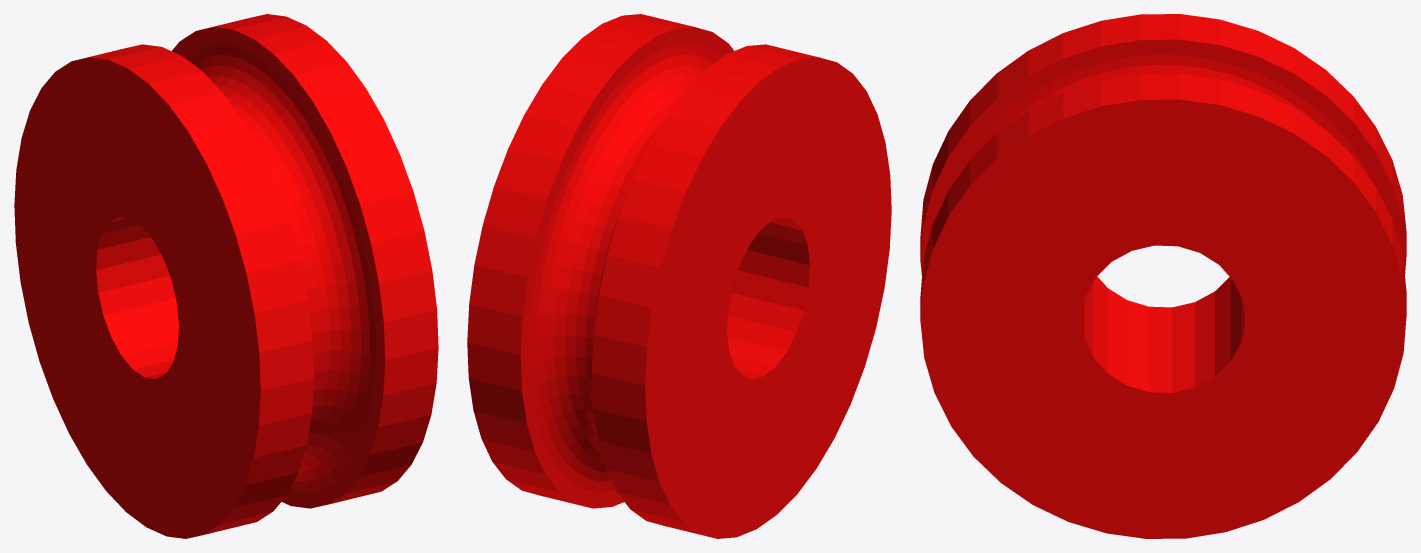
File: power_cart_wl4_visuals_wl4_mesh.obj
3 views of the same model, side by side, from view 1: azimuth 30°, elevation 25°; view 2: azimuth 150°, elevation 25°; view 3: azimuth 270°, elevation 25° (orthographic).
Size of the model in its own units: 0.5 by 1.2 by 1.2.
